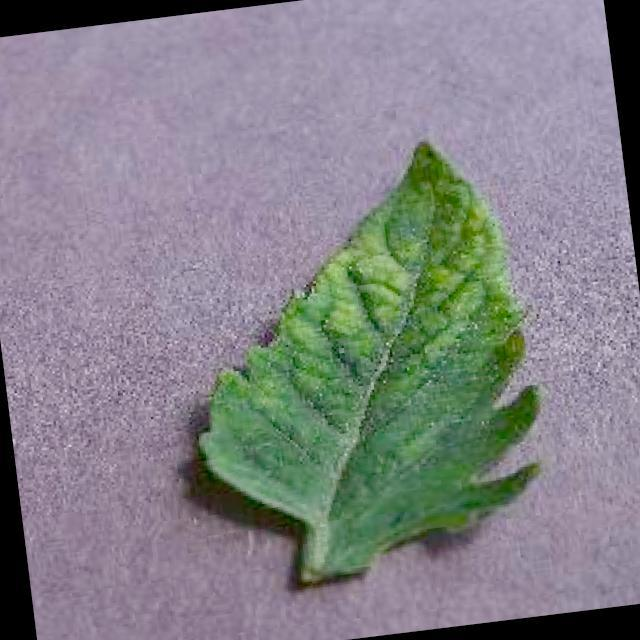Tomato mosaic virus leaf: (170, 126, 560, 594)
